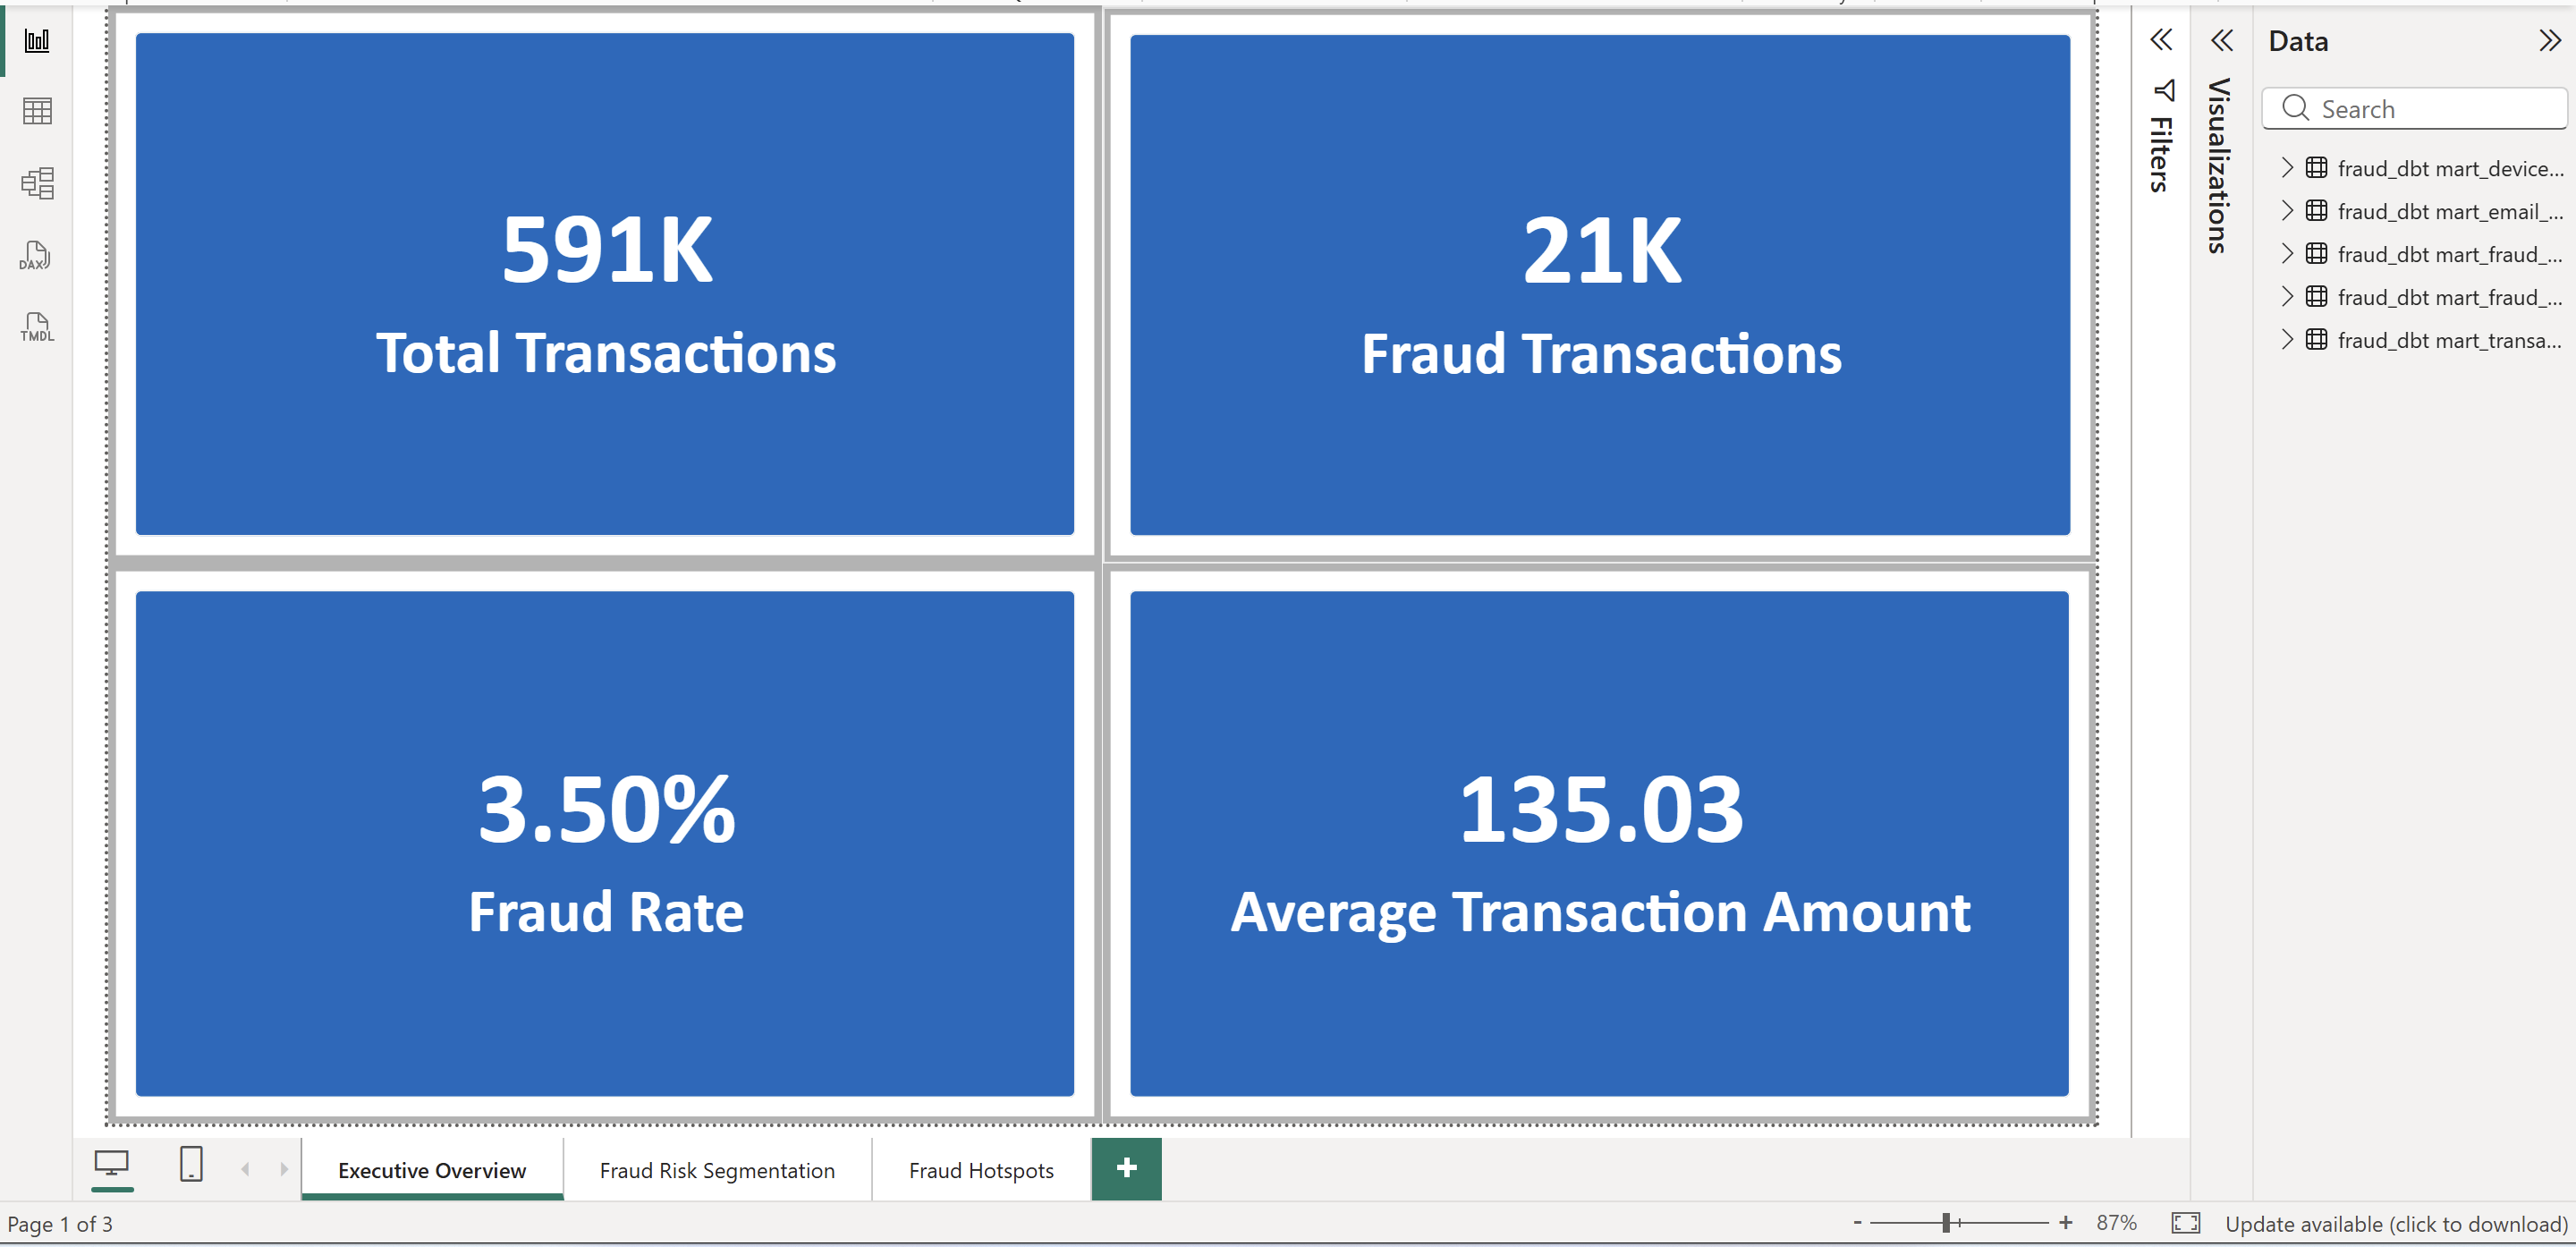

Layout of this report page (visuals, bound fields, positions):
{"tool":"powerbi","page":{"name":"Executive Overview","canvas":[1280,720],"ordinal":0},"visuals":[{"type":"cardVisual","fields":{"Data":["Sum(fraud_dbt mart_fraud_overview.total_transactions)"]},"box":[0,0,640,359.7],"z":0},{"type":"cardVisual","fields":{"Data":["Sum(fraud_dbt mart_fraud_overview.fraud_transactions)"]},"box":[640,1.4,641.4,358.3],"z":1000},{"type":"cardVisual","fields":{"Data":["Sum(fraud_dbt mart_fraud_overview.fraud_rate)"]},"box":[0,359.7,640,361],"z":2000},{"type":"cardVisual","fields":{"Data":["Avg(fraud_dbt mart_fraud_overview.avg_transaction_amount)"]},"box":[640,359.7,640,361],"z":3000}]}

Visuals, with their boxes on the page's 1280x720 design canvas (x1, y1, x2, y2). These are canvas units, not pixel positions in the 2576x1247 screenshot, which may show the page scaled, cropped or inside an application window:
cardVisual - Sum(fraud_dbt mart_fraud_overview.total_transactions): 0:0:640:360
cardVisual - Sum(fraud_dbt mart_fraud_overview.fraud_transactions): 640:1:1281:360
cardVisual - Sum(fraud_dbt mart_fraud_overview.fraud_rate): 0:360:640:721
cardVisual - Avg(fraud_dbt mart_fraud_overview.avg_transaction_amount): 640:360:1280:721
